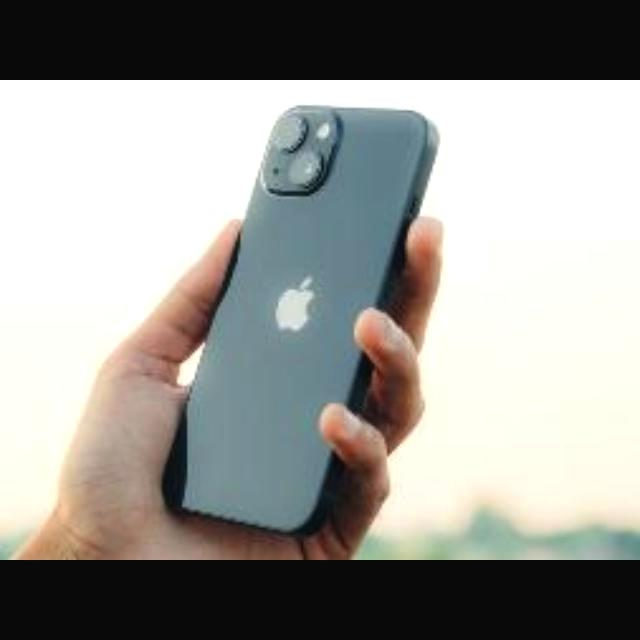lens: (252, 107, 348, 196)
phone: (160, 96, 444, 536)
